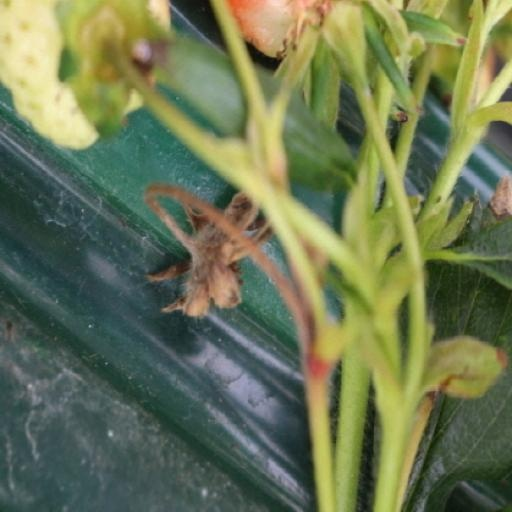Gray Mold: (141, 194, 276, 330)
